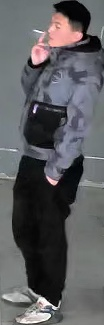smoking: (21, 3, 98, 95)
